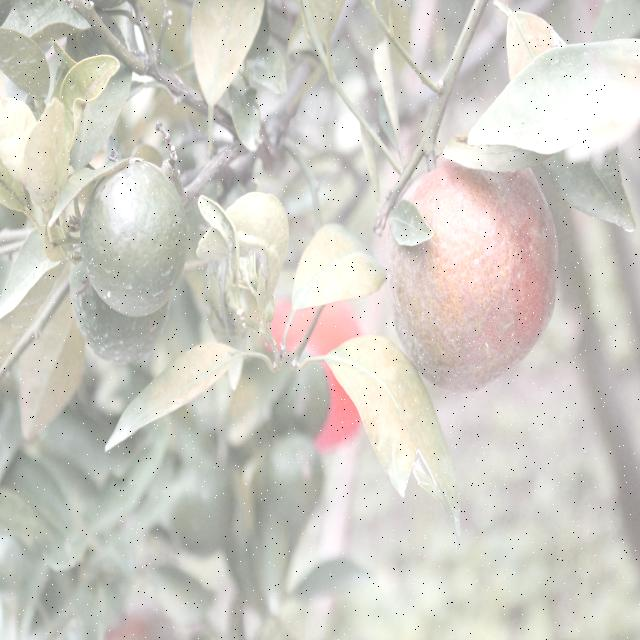greening: (345, 341, 444, 504), (282, 226, 372, 315)
